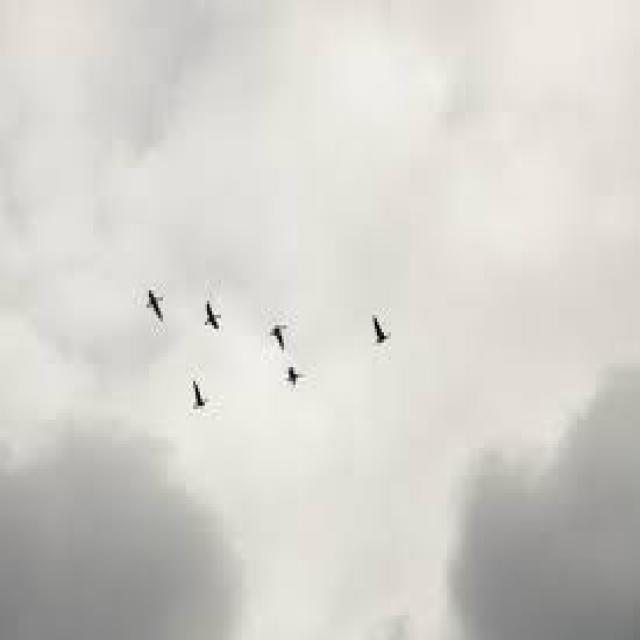bird: (337, 254, 398, 366), (176, 290, 234, 340), (135, 270, 175, 340), (264, 294, 299, 368), (282, 350, 318, 402), (188, 371, 218, 426)
